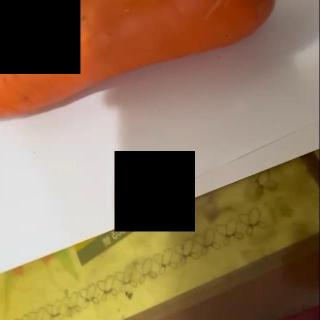carrot: (0, 0, 318, 118)
